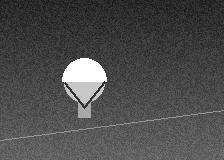helmet: (62, 58, 106, 107)
